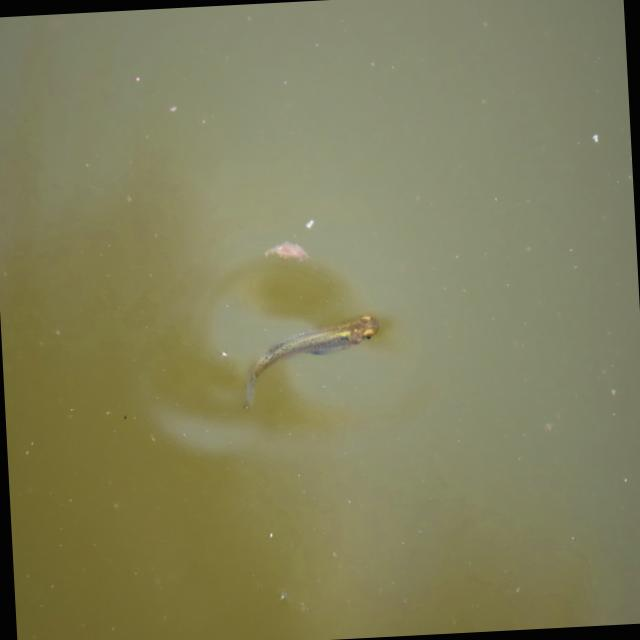Sivrisinek Baligi: (238, 310, 385, 409)
